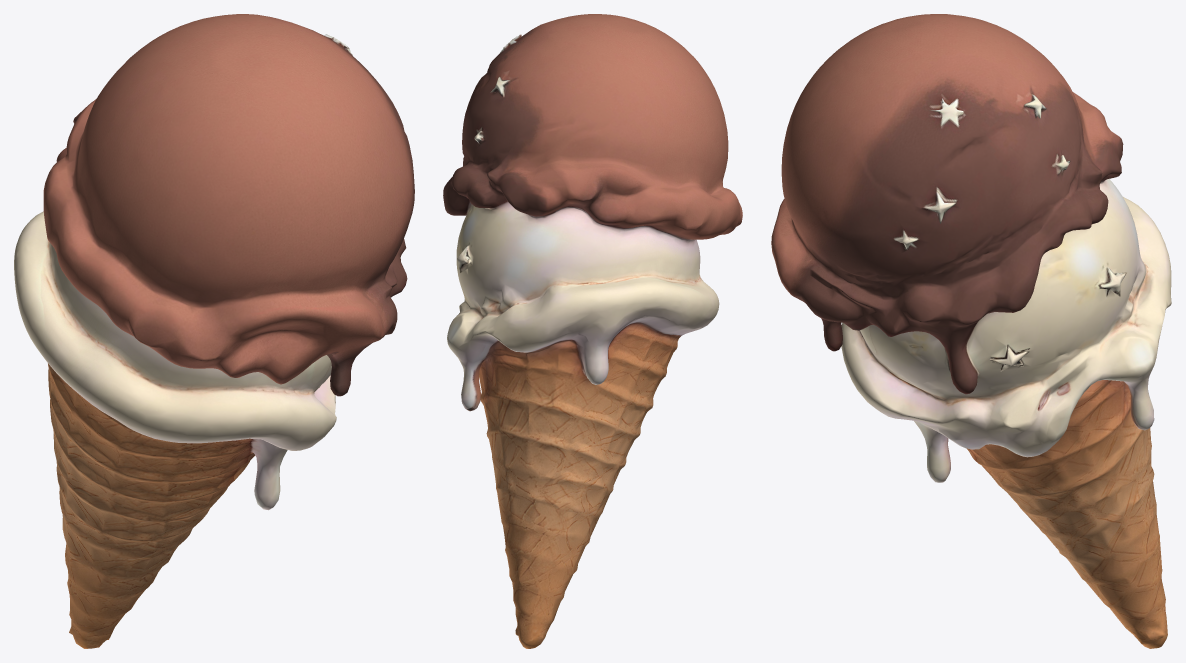
The model's file is icecream.glb.
The picture shows the model from 3 angles, left to right: view 1: azimuth 30°, elevation 25°; view 2: azimuth 150°, elevation 25°; view 3: azimuth 270°, elevation 25°; orthographic projection. The views are drawn at different scales.
Visible parts, largest first — view 1: tripo_node_e540a019-b079-4501-9c33-8dd9f35ba1a4_0; view 2: tripo_node_e540a019-b079-4501-9c33-8dd9f35ba1a4_0; view 3: tripo_node_e540a019-b079-4501-9c33-8dd9f35ba1a4_0.
Part boxes in pixels (<box>): tripo_node_e540a019-b079-4501-9c33-8dd9f35ba1a4_0: <box>14,14,414,648</box>; tripo_node_e540a019-b079-4501-9c33-8dd9f35ba1a4_0: <box>443,14,742,648</box>; tripo_node_e540a019-b079-4501-9c33-8dd9f35ba1a4_0: <box>771,14,1171,648</box>.
Size of the model in its own units: 0.4979 by 1 by 0.5723.
Materials: 1 (1 with a texture image).
